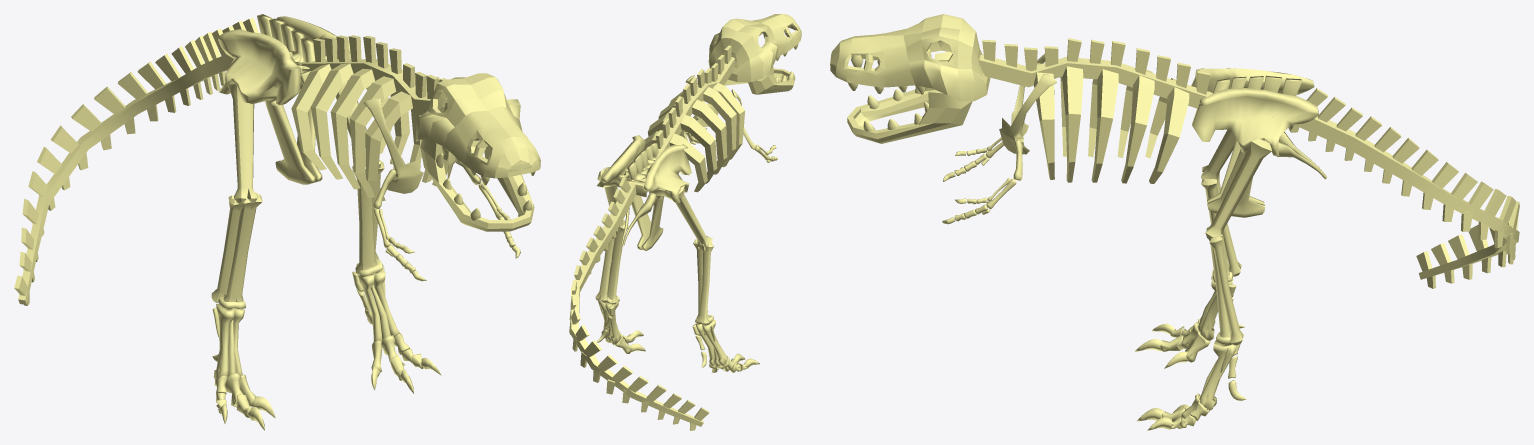
Rendered from RexSkeleton.fbx.
The picture shows the model from 3 angles, left to right: view 1: azimuth 30°, elevation 25°; view 2: azimuth 150°, elevation 25°; view 3: azimuth 270°, elevation 25°; orthographic projection. The views are drawn at different scales.
Visible parts, largest first — view 1: polySurface147; view 2: polySurface147; view 3: polySurface147.
Part boxes in pixels (x1,y1,x2,y2): polySurface147: (14,14,540,430); polySurface147: (569,14,801,430); polySurface147: (830,14,1519,430).
Size of the model in its own units: 3.31 by 4.54 by 7.46.
